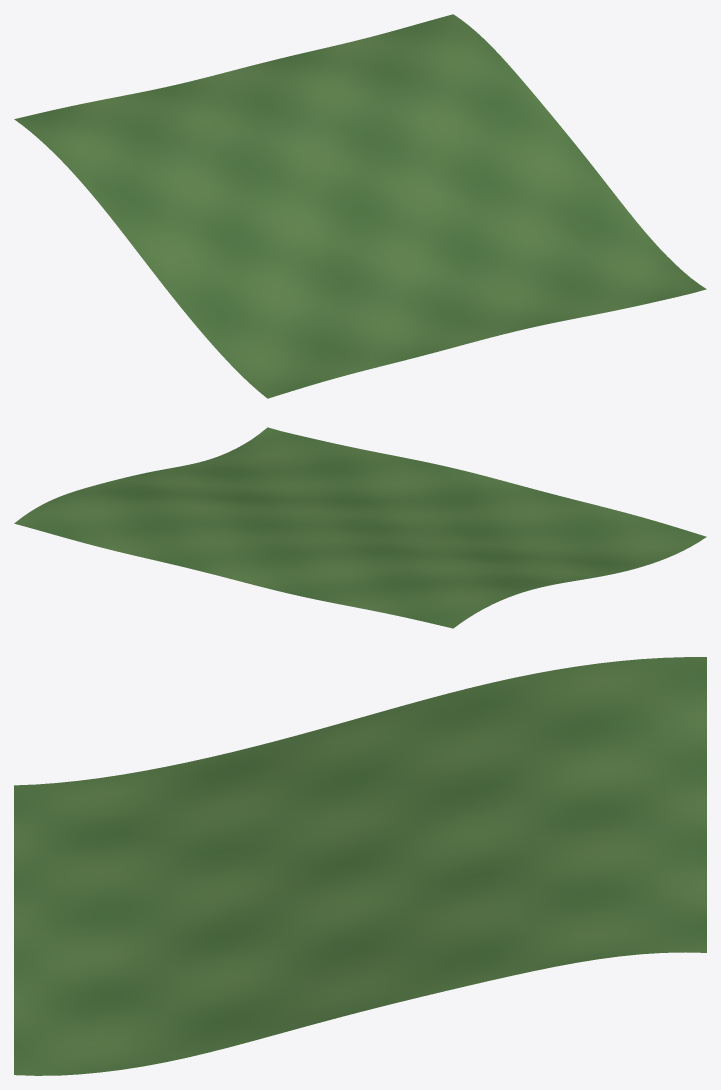
File: chunk_11_0.glb
3 renders of one model, top to bottom at view 1: azimuth 30°, elevation 25°; view 2: azimuth 150°, elevation 25°; view 3: azimuth 270°, elevation 25°, orthographic. The views are drawn at different scales.
Bounding box in the file's own units: 512 × 105 × 512.
